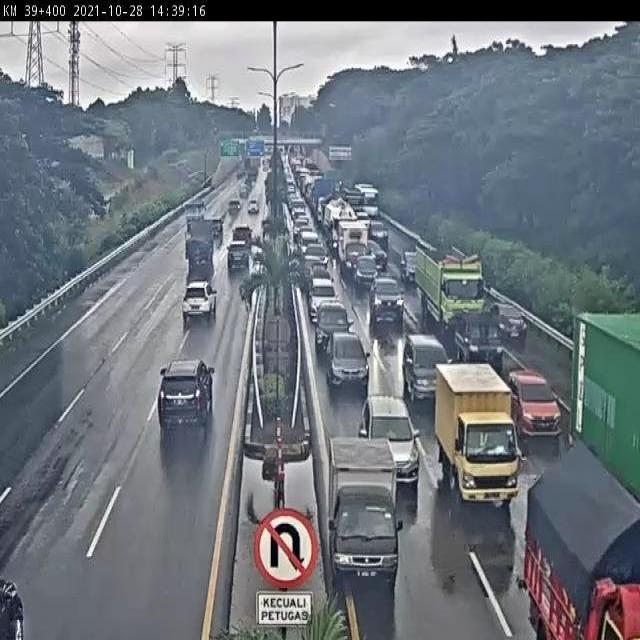big truck: (577, 312, 640, 512), (414, 240, 497, 348)
car: (360, 391, 429, 500), (152, 352, 224, 436), (503, 362, 566, 442), (323, 328, 378, 405), (398, 331, 442, 398), (309, 297, 351, 355), (365, 271, 406, 324), (181, 278, 224, 326), (491, 291, 527, 345), (225, 236, 254, 277), (226, 220, 258, 252), (244, 196, 262, 225)
mid truck: (520, 437, 640, 640), (430, 360, 520, 509), (172, 220, 219, 285)
small truck: (326, 436, 403, 584)
